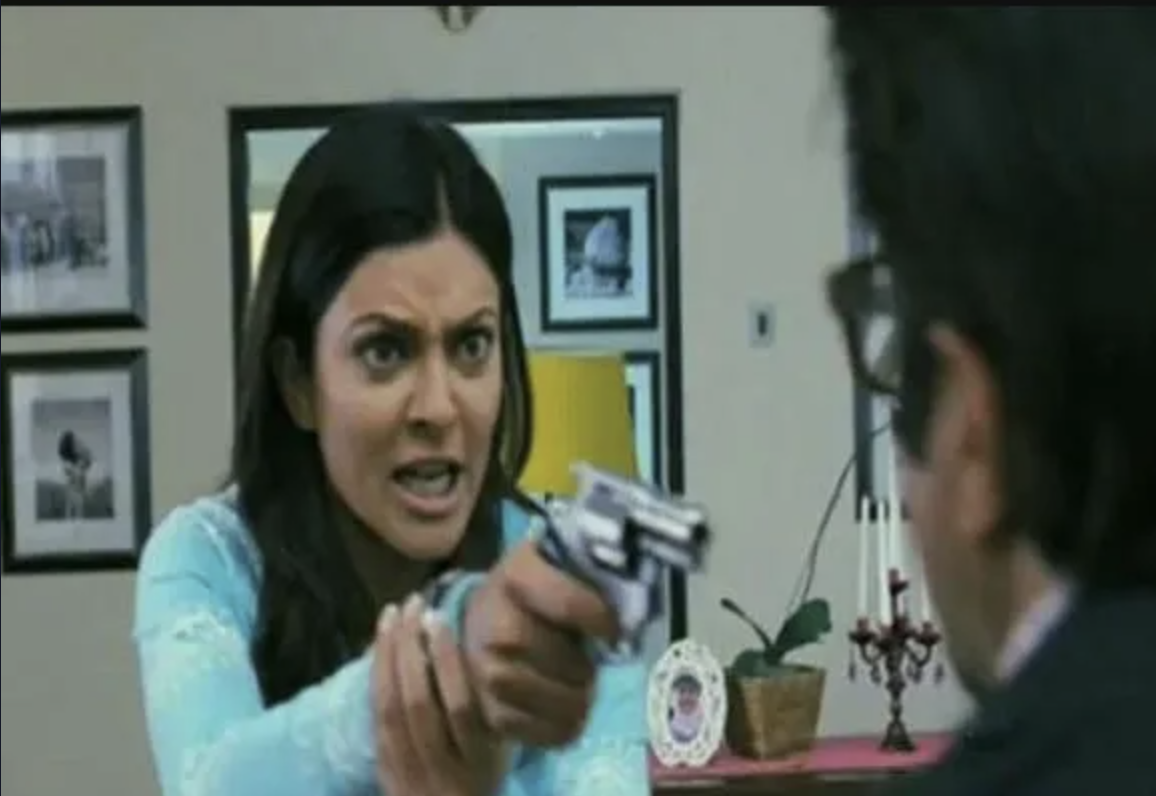gun_023: (521, 449, 717, 669)
